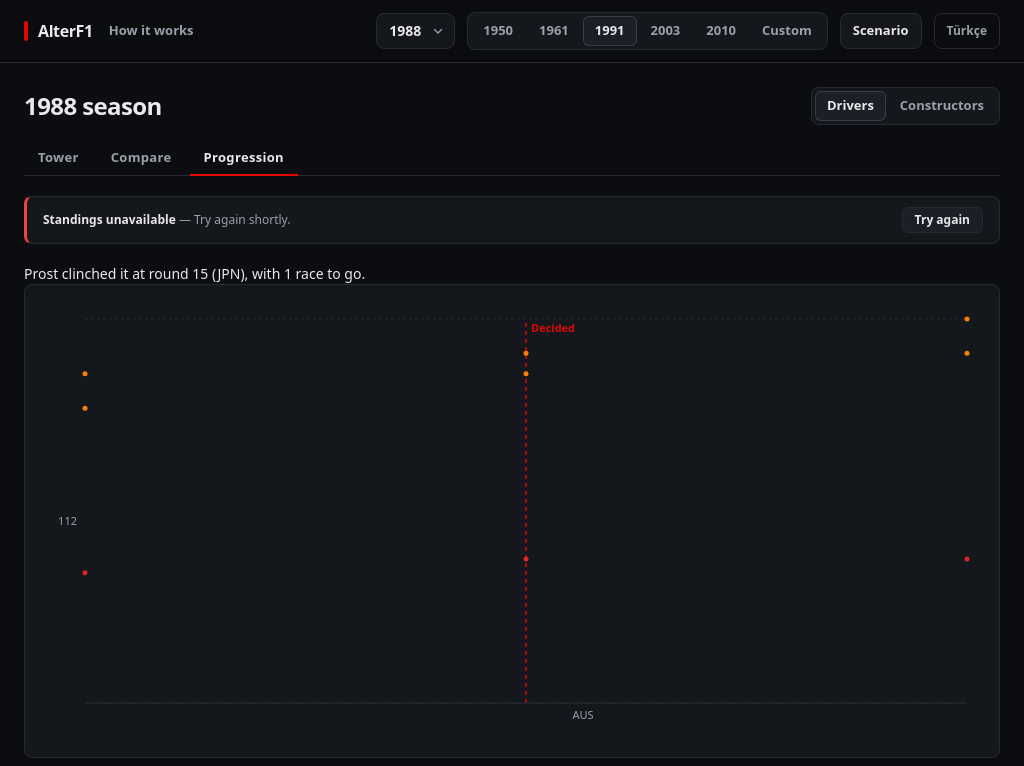
Test case: ProgressionTab › shows a compact standings error banner with Retry when only standings fails
Expected: the text "Prost clinched it at round 15 (JPN), with 1 race to go." is shown, [24,264,365,283]
Expected: the message shows "Standings unavailable", [43,211,176,228]
Click the button "Try again" at (942, 220), box [902,207,983,233]
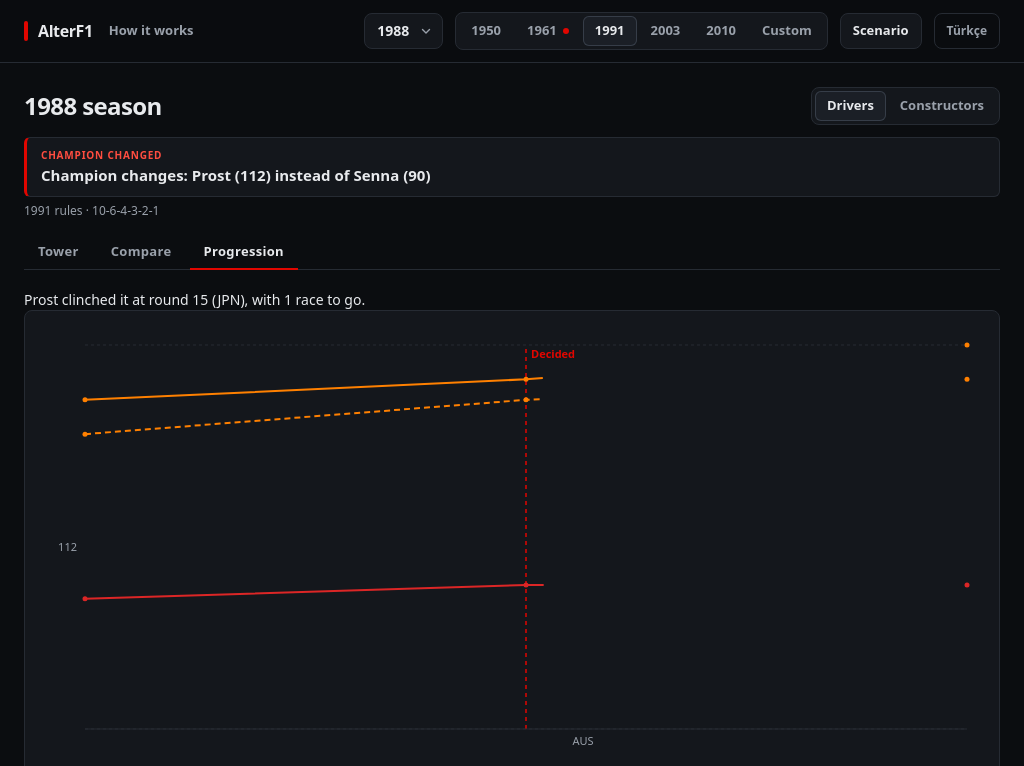
Expected: the text "Champion changes: Prost (112) instead of Senna (90)" is shown, [41,165,430,185]
Expected: the message "Standings unavailable — Try again shortly. Try again" is gone
